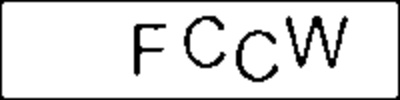C: (233, 24, 282, 83), (182, 12, 228, 71)
F: (128, 22, 168, 79)
W: (282, 13, 353, 72)
